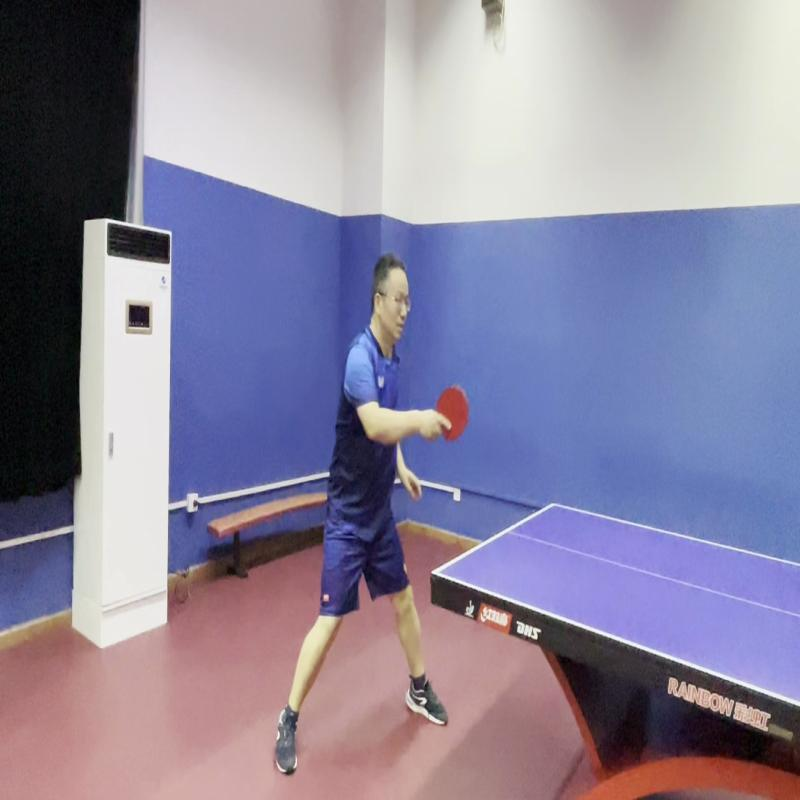bats: (432, 378, 476, 451)
